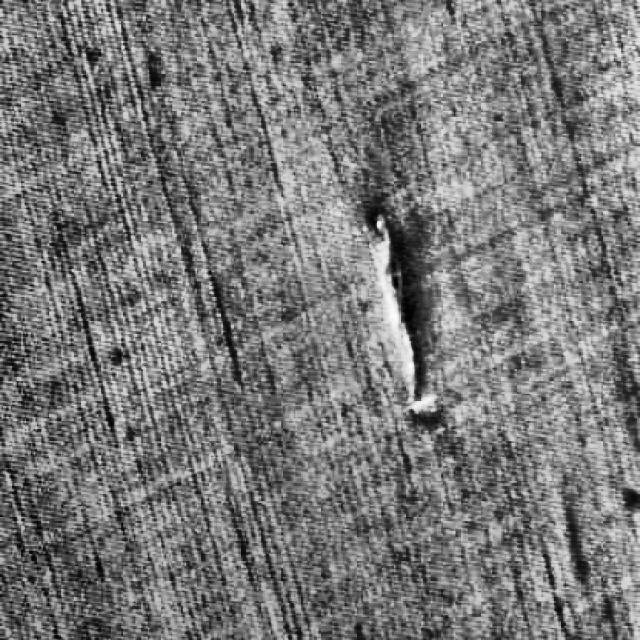hole: (354, 198, 453, 437)
